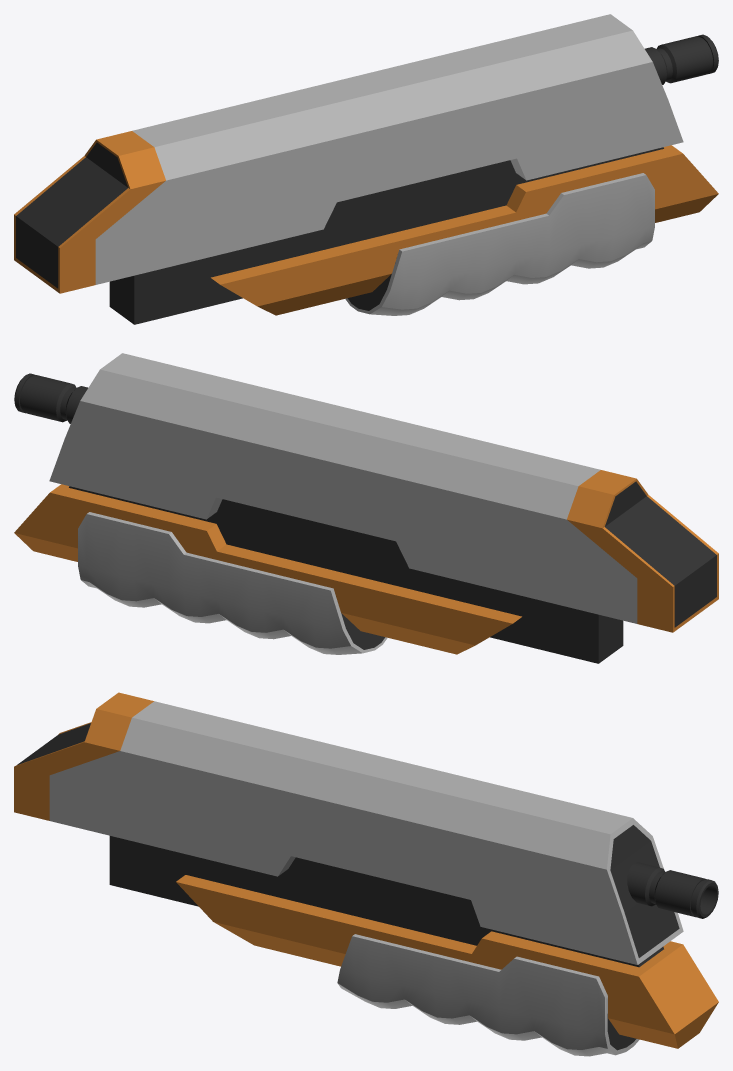
The model's file is Body_AR4.gltf.
3 views of the same model, one above another, from view 1: azimuth 30°, elevation 25°; view 2: azimuth 150°, elevation 25°; view 3: azimuth 330°, elevation 25° (orthographic).
Visible parts, largest first — view 1: Body_AR4; view 2: Body_AR4; view 3: Body_AR4.
Boxes of the visible parts, box(x1,y1,x2,y2) form: Body_AR4: box(14, 14, 718, 324); Body_AR4: box(14, 353, 718, 663); Body_AR4: box(14, 692, 718, 1056).
Size of the model in its own units: 0.9739 by 0.3202 by 0.1258.
